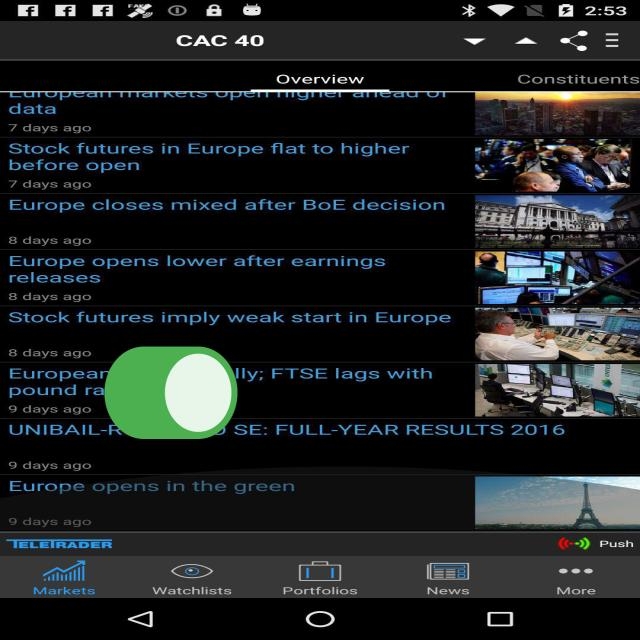social proof: (99, 311, 244, 482)
